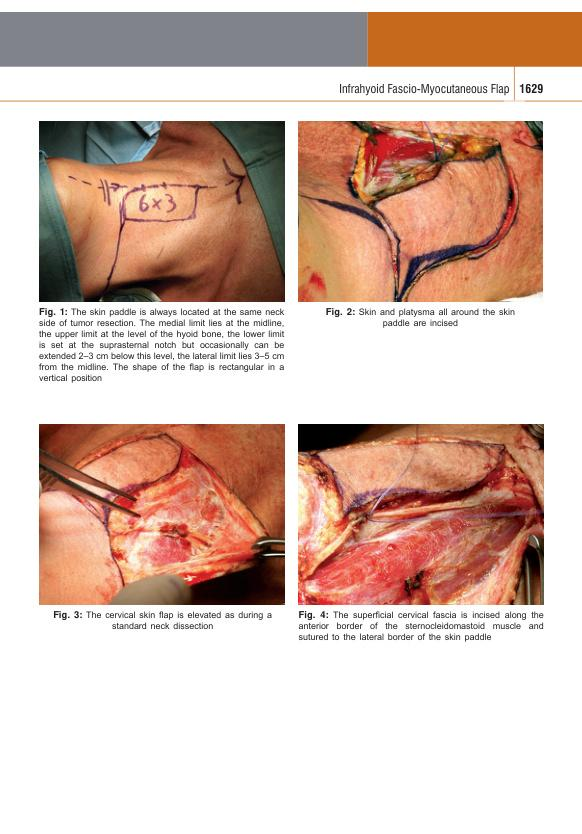caption: (37, 306, 286, 384), (297, 609, 546, 643), (52, 609, 273, 630), (324, 306, 516, 330)
header: (338, 82, 511, 97)
image: (297, 423, 545, 606), (298, 120, 544, 303), (38, 423, 285, 605), (39, 121, 285, 303)
